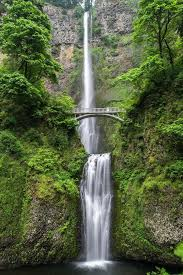mountain: (3, 3, 180, 271)
waterfall: (48, 10, 153, 274)
